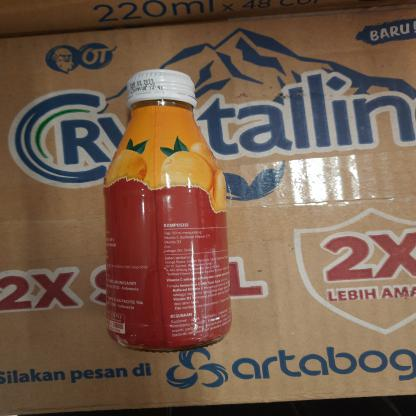glass: (100, 66, 236, 356)
